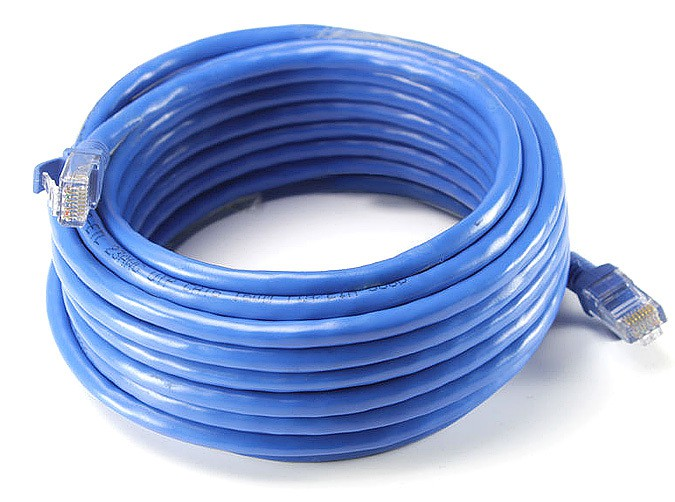Nonrec_Tangler: (8, 14, 663, 444)
